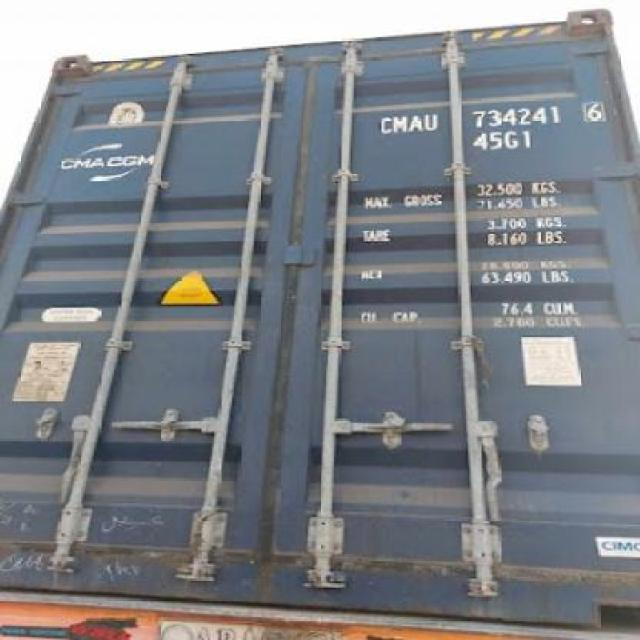ISO: (474, 128, 534, 152)
container_number: (380, 96, 598, 136)
